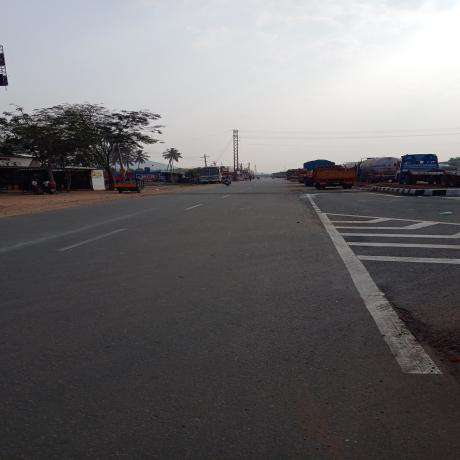Speed Bump: (142, 190, 377, 196)
